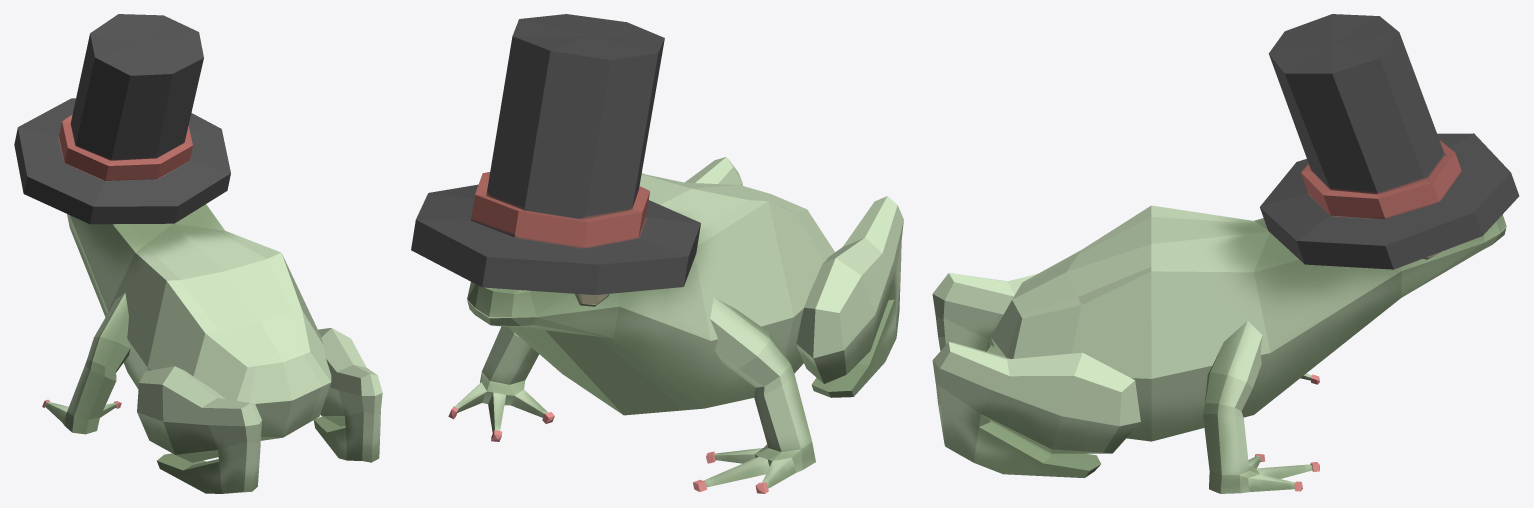
Rendered from statue frog.fbx.
The picture shows the model from 3 angles, left to right: view 1: azimuth 30°, elevation 25°; view 2: azimuth 150°, elevation 25°; view 3: azimuth 270°, elevation 25°; orthographic projection. The views are drawn at different scales.
Visible parts, largest first — view 1: body, top head, legs, arms; view 2: top head, body, legs, arms; view 3: body, top head, legs, arms.
Part boxes in pixels (x1,y1,x2,y2): body: (67,204,331,440); top head: (14,14,230,224); legs: (137,328,382,493); arms: (42,293,130,434); top head: (411,14,700,294); body: (467,173,834,415); legs: (685,157,903,397); arms: (448,297,815,493); body: (991,205,1506,441); top head: (1260,14,1519,269); legs: (932,273,1140,477); arms: (1203,321,1319,493).
Size of the model in its own units: 112 by 148 by 197.
